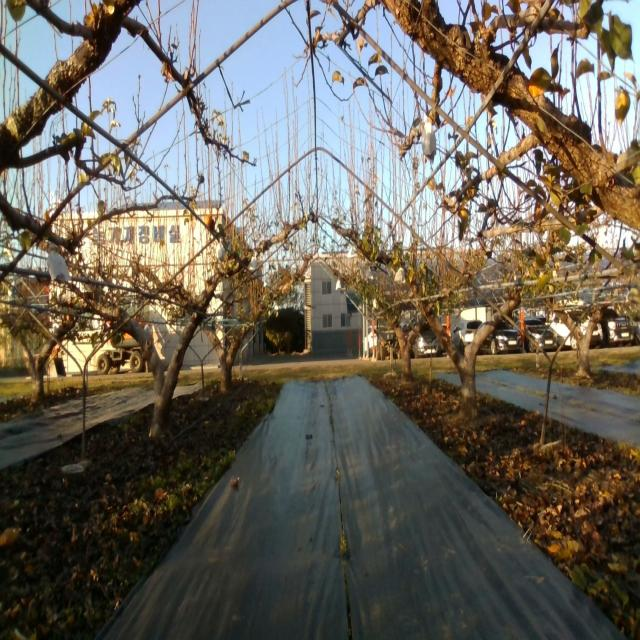pearbags: (47, 243, 71, 288), (422, 114, 436, 166), (394, 266, 406, 284)
